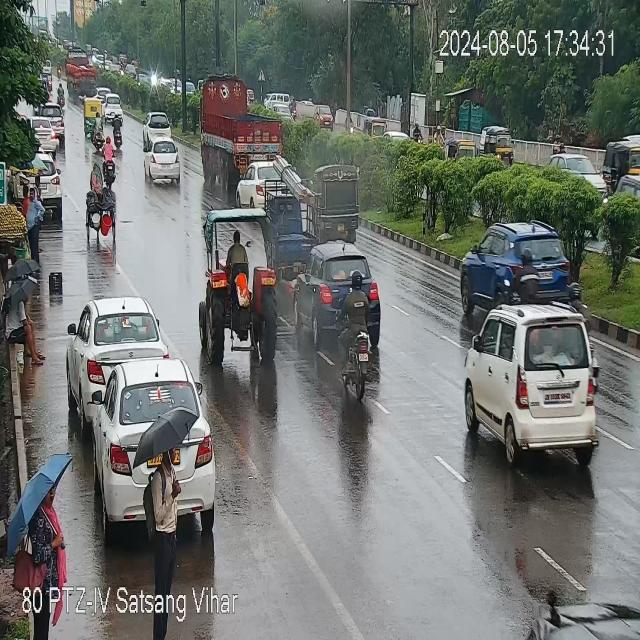2-wheelers: (330, 266, 384, 419), (502, 241, 547, 309), (565, 268, 592, 334), (100, 136, 126, 181), (108, 107, 128, 154), (92, 113, 109, 149), (410, 118, 430, 148), (46, 67, 59, 97), (435, 116, 448, 145), (345, 111, 359, 136)
auto: (259, 182, 313, 276), (314, 166, 374, 241), (76, 157, 124, 245), (605, 135, 640, 184), (484, 120, 514, 171), (363, 104, 392, 145), (448, 127, 477, 160), (82, 95, 102, 138)
car: (471, 299, 608, 485), (60, 270, 168, 434), (296, 223, 386, 363), (461, 220, 583, 323), (15, 162, 66, 245), (141, 134, 196, 198), (239, 151, 289, 211), (141, 99, 176, 150), (26, 112, 58, 160), (40, 100, 66, 142), (102, 90, 124, 126), (316, 97, 334, 131), (264, 91, 296, 109)
pedestrian: (140, 424, 192, 580), (18, 429, 71, 578), (4, 275, 45, 388), (22, 184, 54, 260)
truck: (200, 212, 277, 362), (204, 75, 294, 182), (64, 43, 101, 103)
